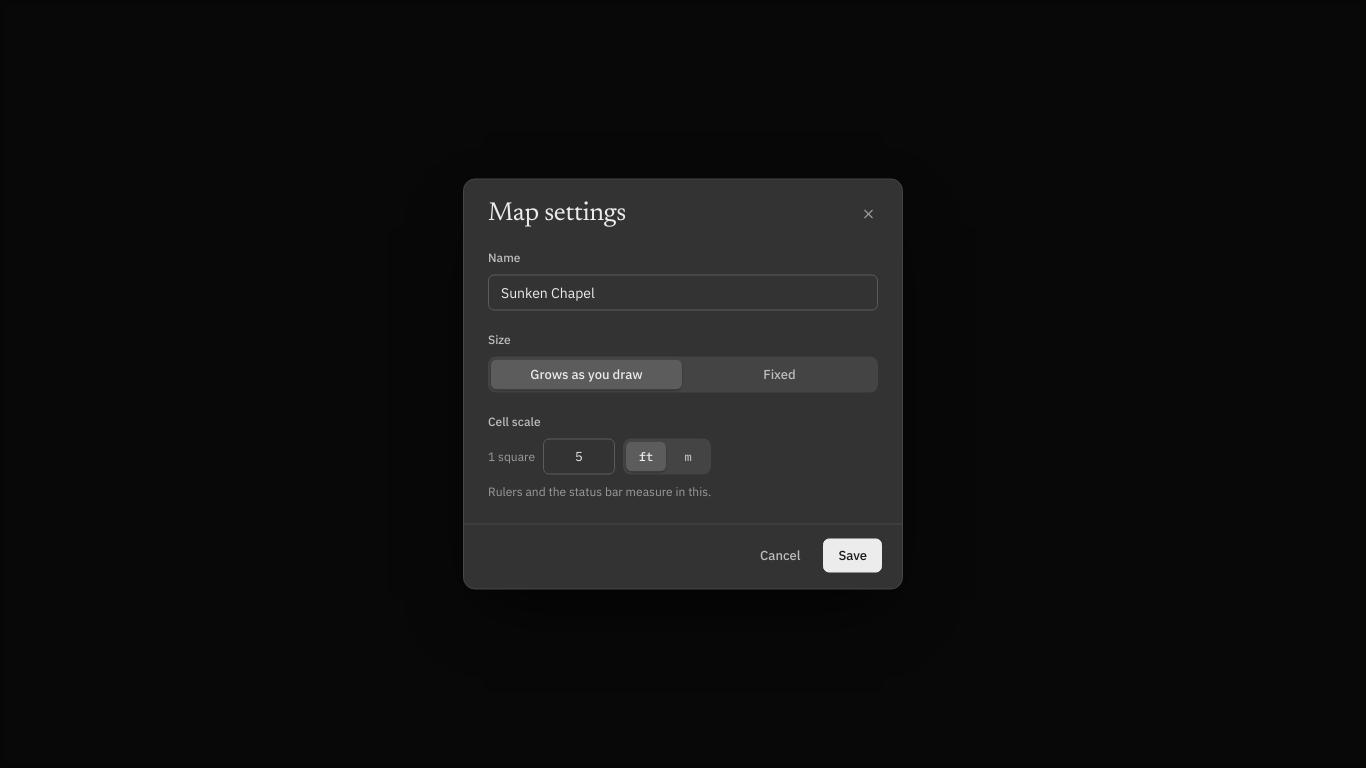
Test: MapSettingsModal › refuses a fixed size that is not whole squares
Click the radio button labelled "Fixed" at coordinates (780, 374), box [684,359,875,389]
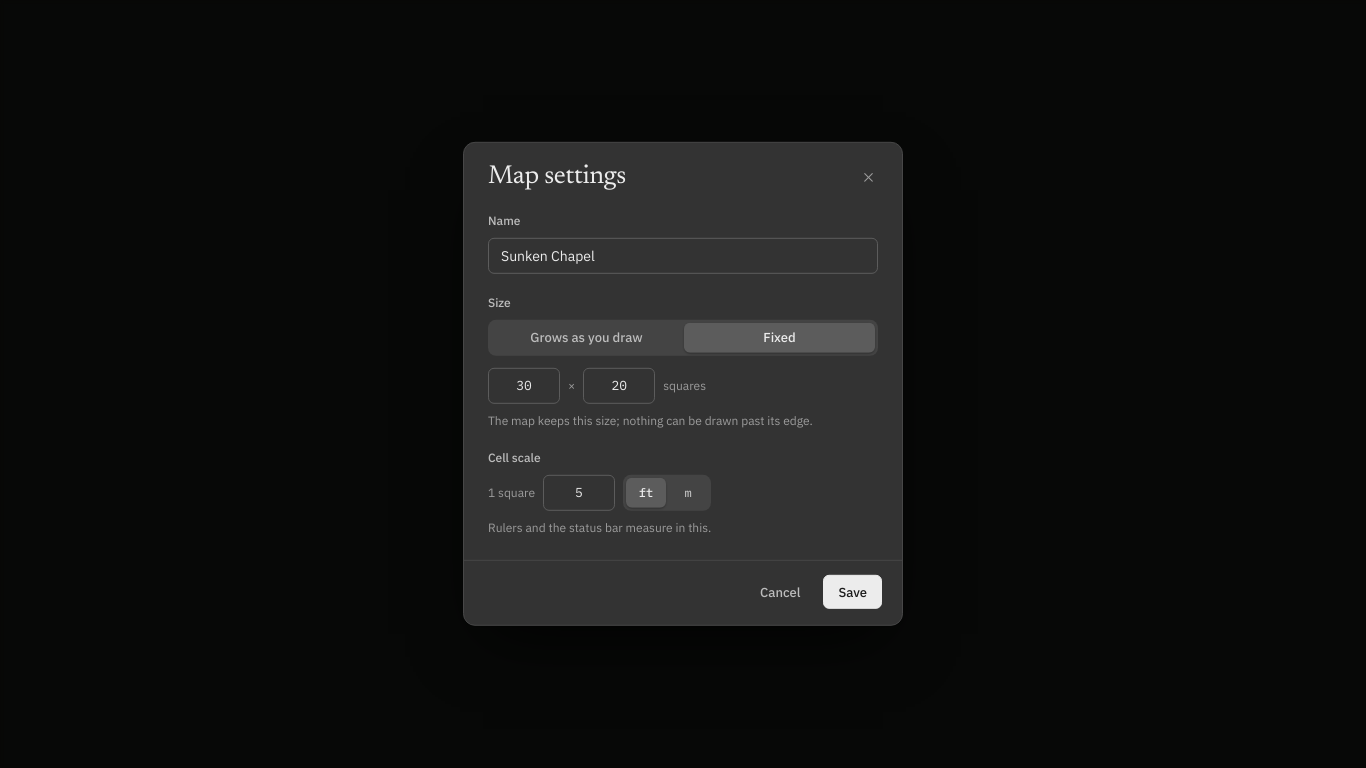
Replace the text in the field named "Width in squares" with "12.5" at coordinates (524, 385), box [488,367,560,403]
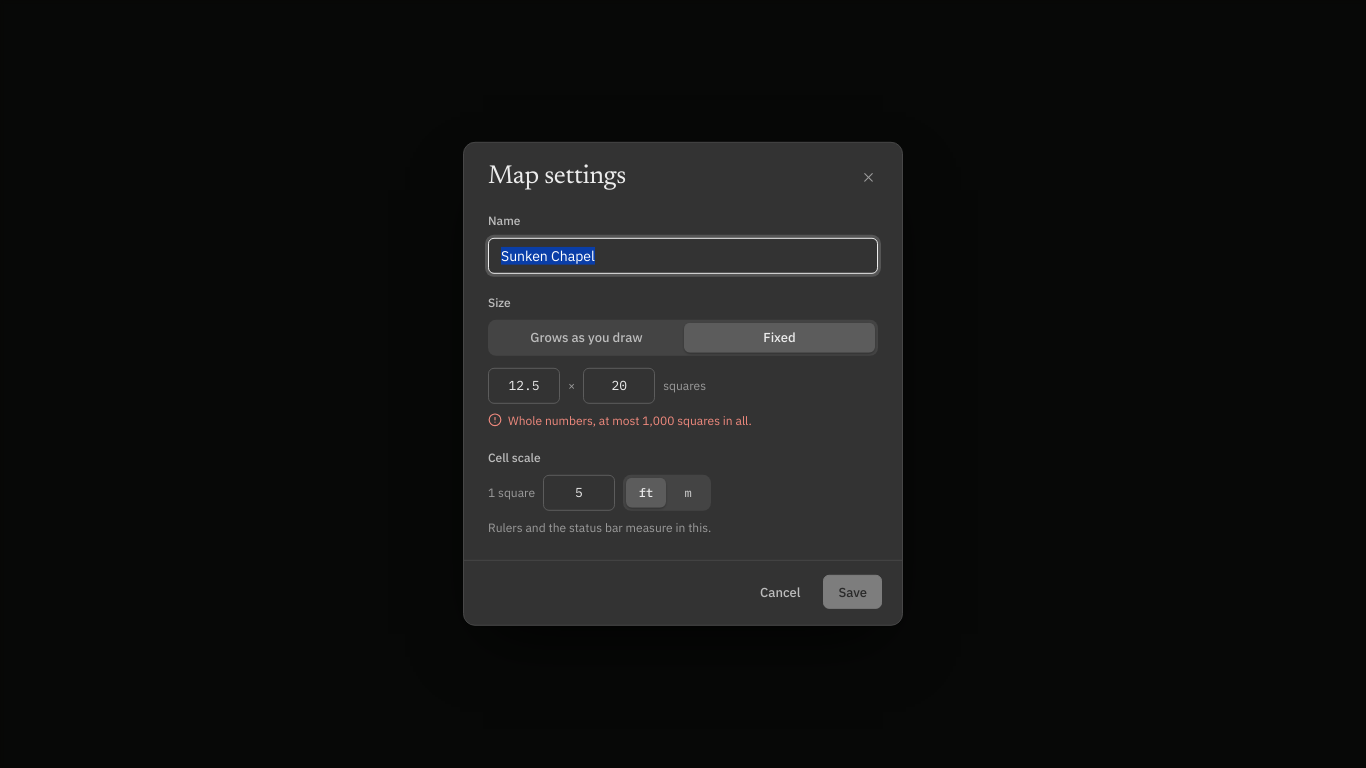
Result: the message shows "Whole numbers" at [508,412,642,427]
Result: the button with test id "v2-map-settings-save" is disabled at [823,575,882,609]
